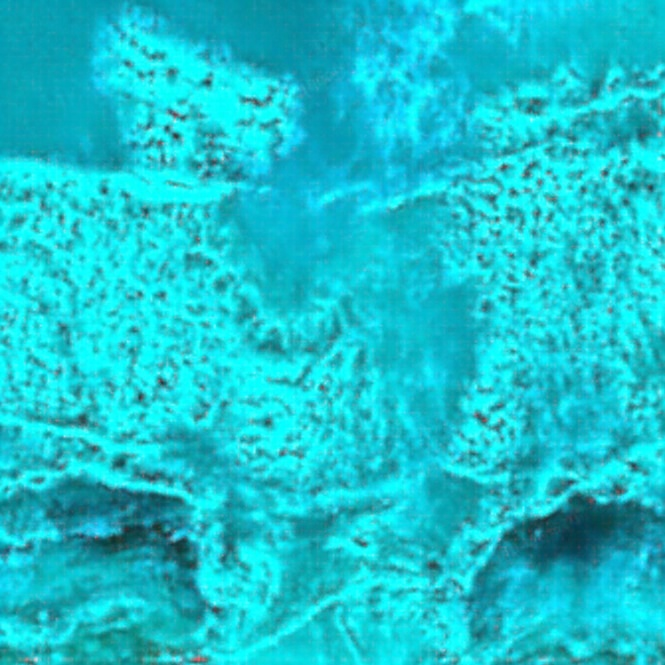rip_current: (183, 52, 533, 563)
